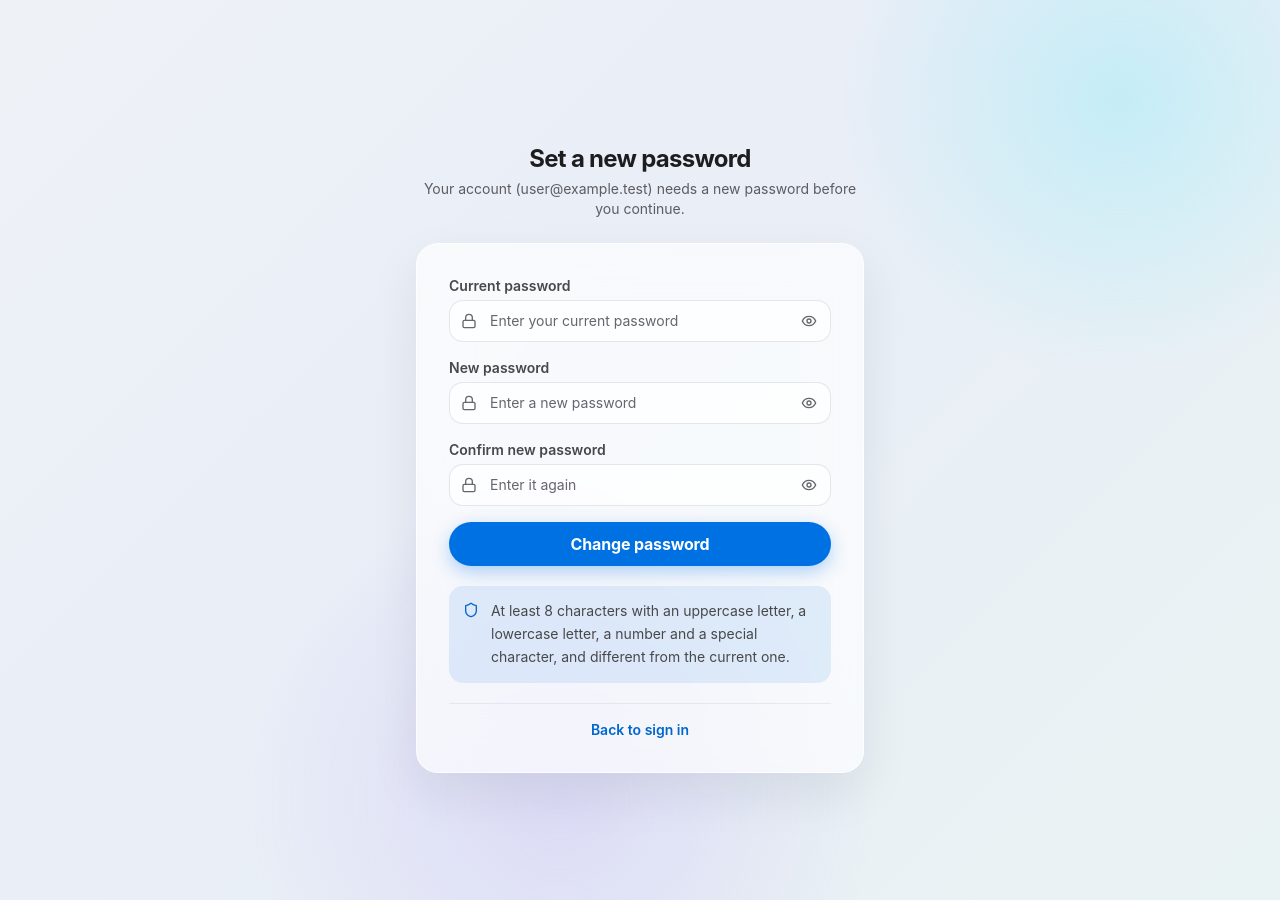
Scenario: change password page readability › renders no text below 14px, with the requirement list showing and after a submit with every field empty
Type "short" into the password field labelled "New password" at (640, 403), box [449,382,831,424]
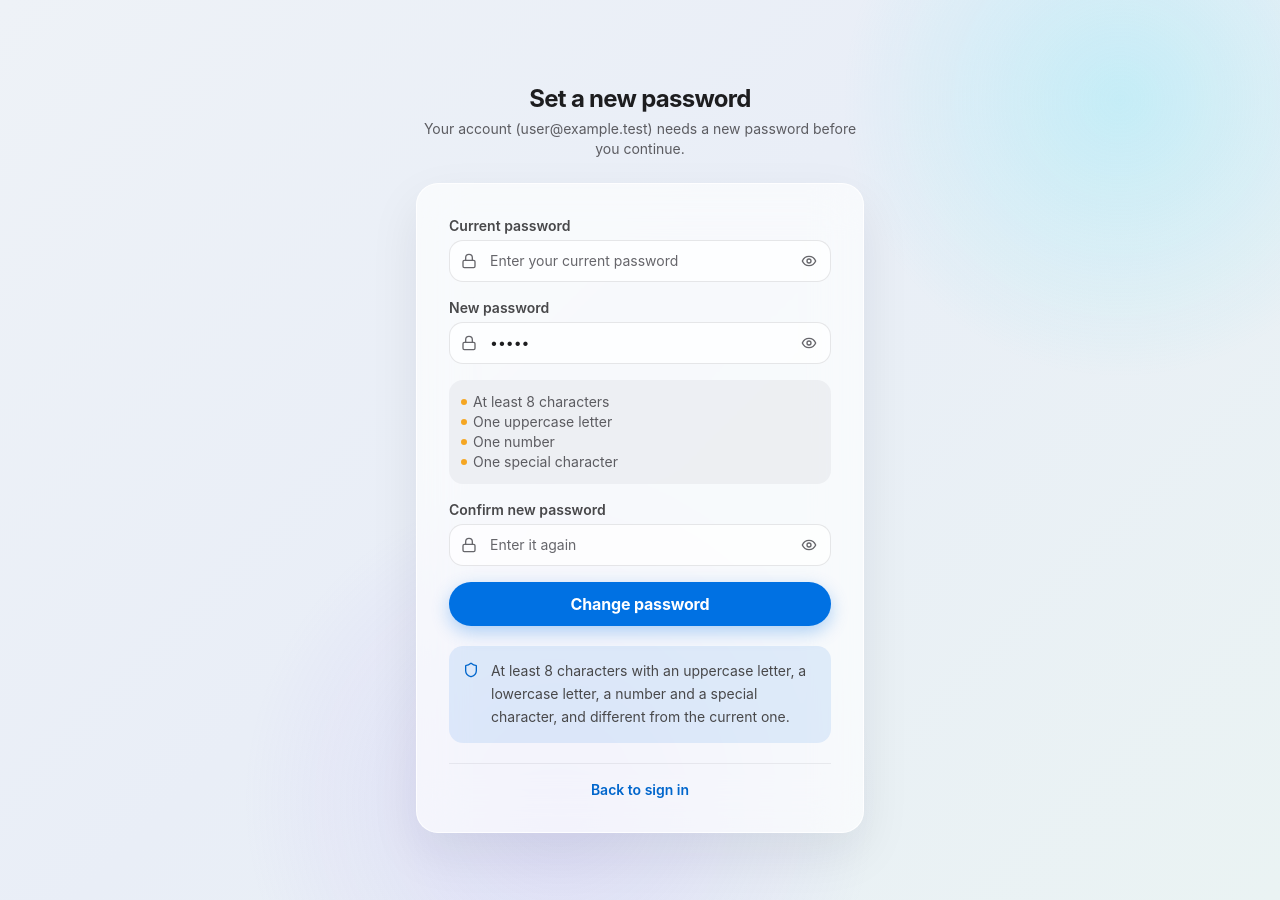
Check: the list item "At least 8 characters" is shown, box [461,393,610,410]
Clear the password field labelled "New password" at (640, 343), box [449,322,831,364]
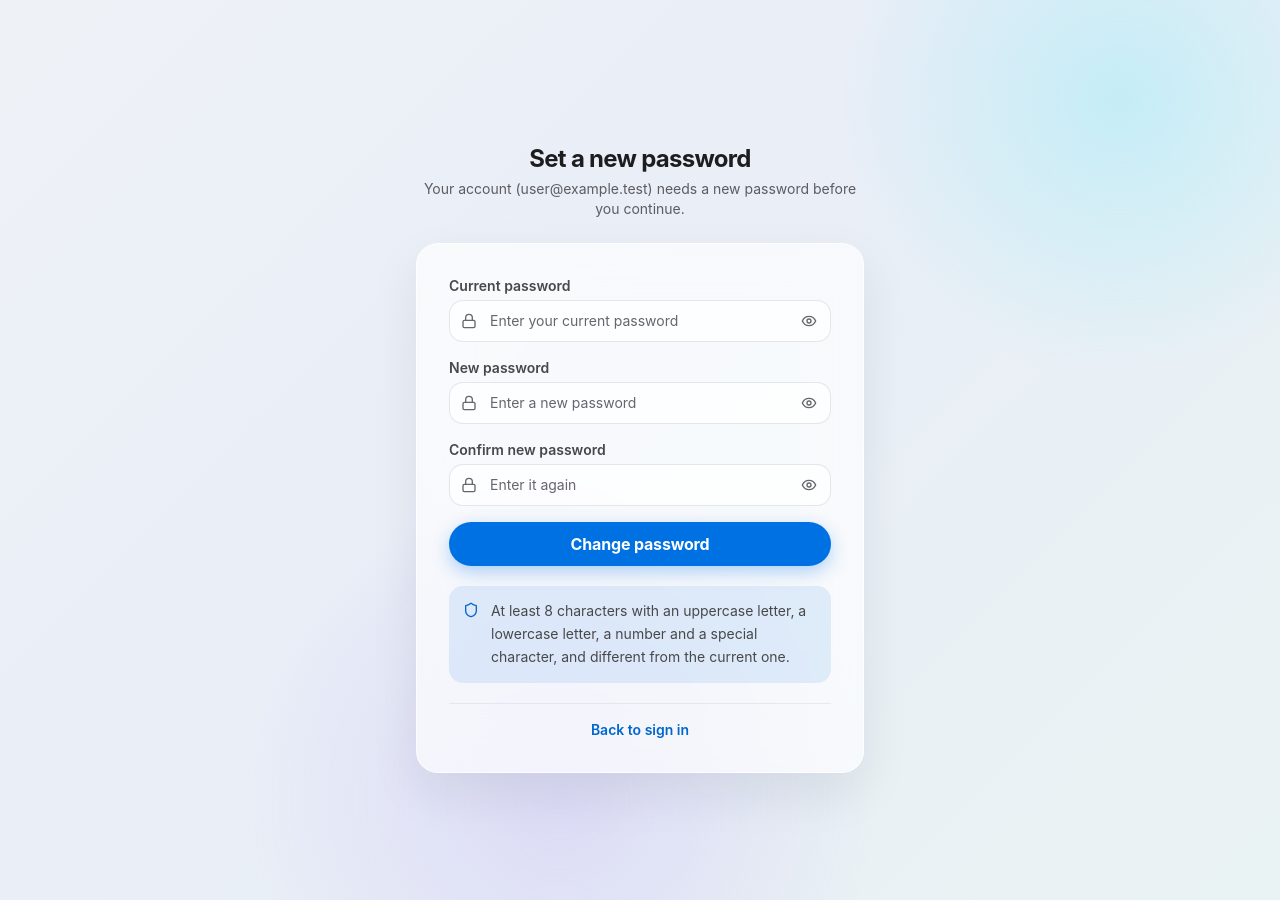
Click the button "Change password" at (640, 544), box [449,522,831,566]
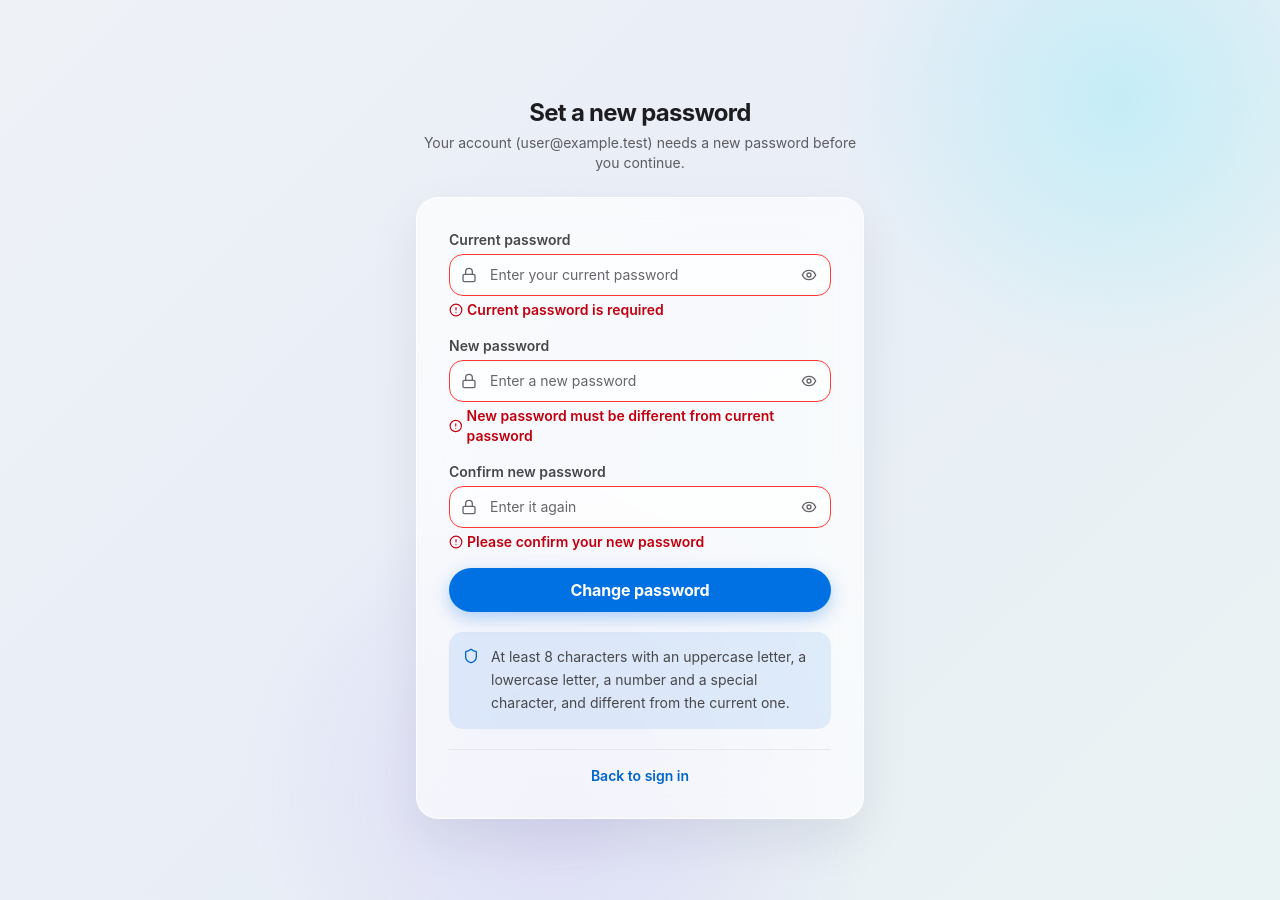
Check: the text "Current password is required" is shown, box [449,301,664,318]
Check: the element with id "newPassword-error" is shown, box [449,406,831,446]
Check: the text "Please confirm your new password" is shown, box [449,533,704,550]
